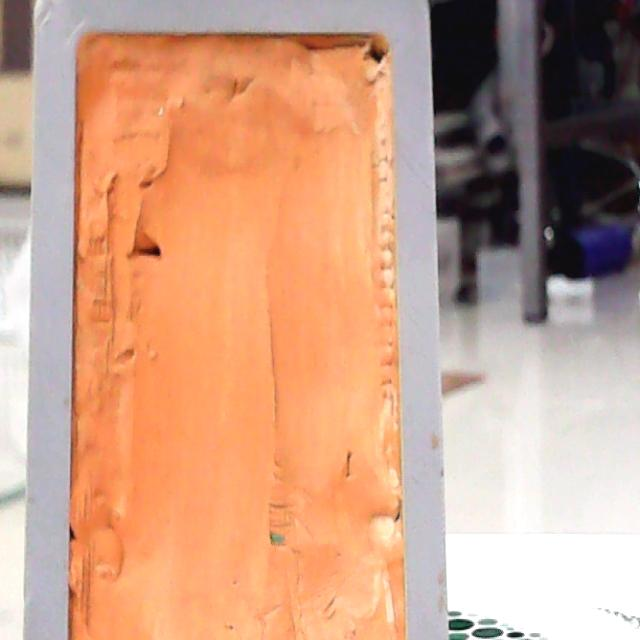block: (13, 0, 459, 640)
